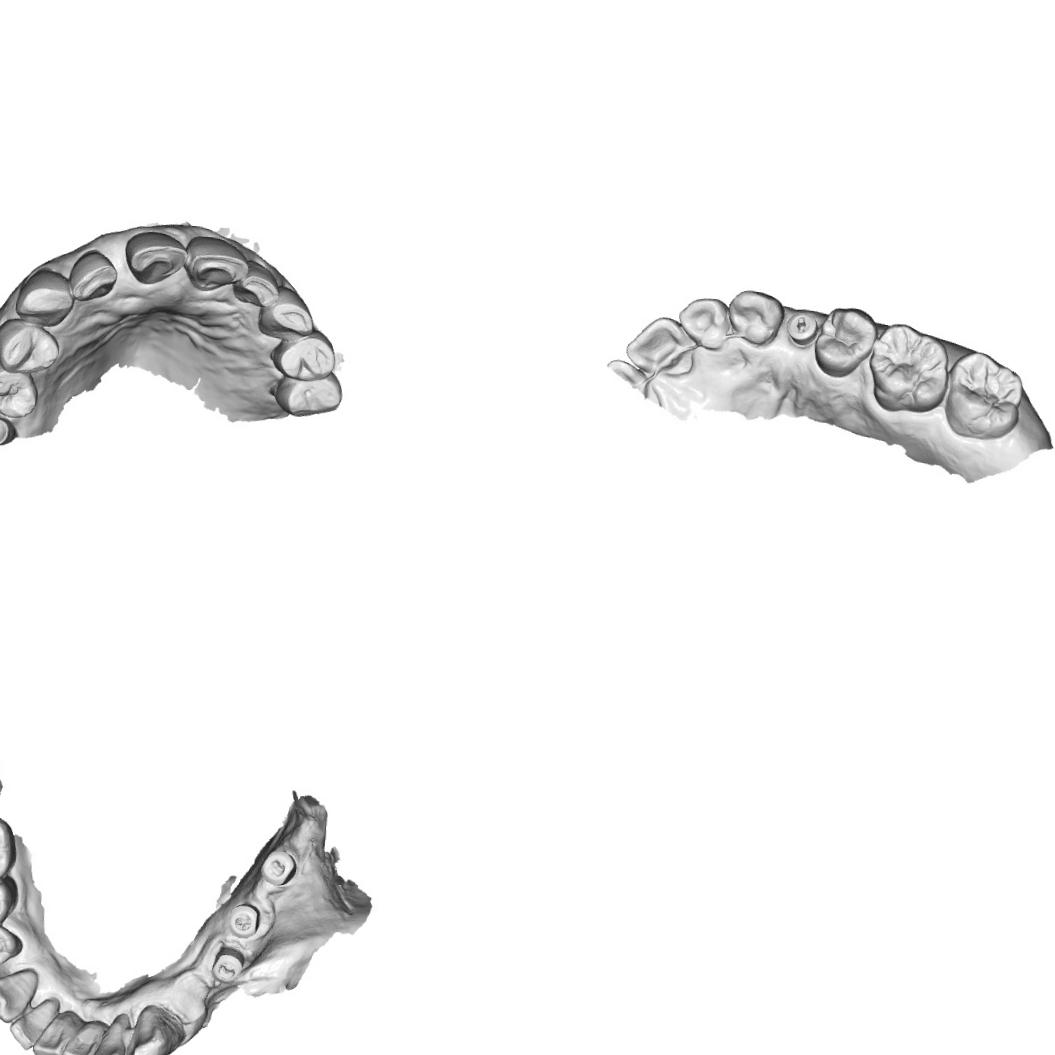canine: (13, 264, 76, 331), (723, 284, 785, 349), (255, 284, 315, 342), (124, 1000, 187, 1055), (0, 965, 39, 1026)
implant: (256, 847, 300, 890), (208, 944, 247, 985), (224, 900, 262, 939)
implant_minus: (783, 307, 821, 349)
incisor: (621, 312, 698, 381), (184, 231, 250, 296), (120, 228, 190, 288), (672, 294, 734, 352), (66, 246, 119, 304), (234, 257, 282, 309), (5, 1004, 50, 1052), (88, 1009, 131, 1055), (29, 1015, 69, 1055), (59, 1019, 102, 1055)
molar: (863, 319, 951, 416), (939, 348, 1027, 444), (0, 809, 18, 883)
premolar: (810, 302, 878, 381), (0, 315, 63, 378), (272, 365, 346, 418), (266, 330, 339, 382), (0, 356, 40, 420), (0, 920, 23, 972), (0, 873, 18, 929)
